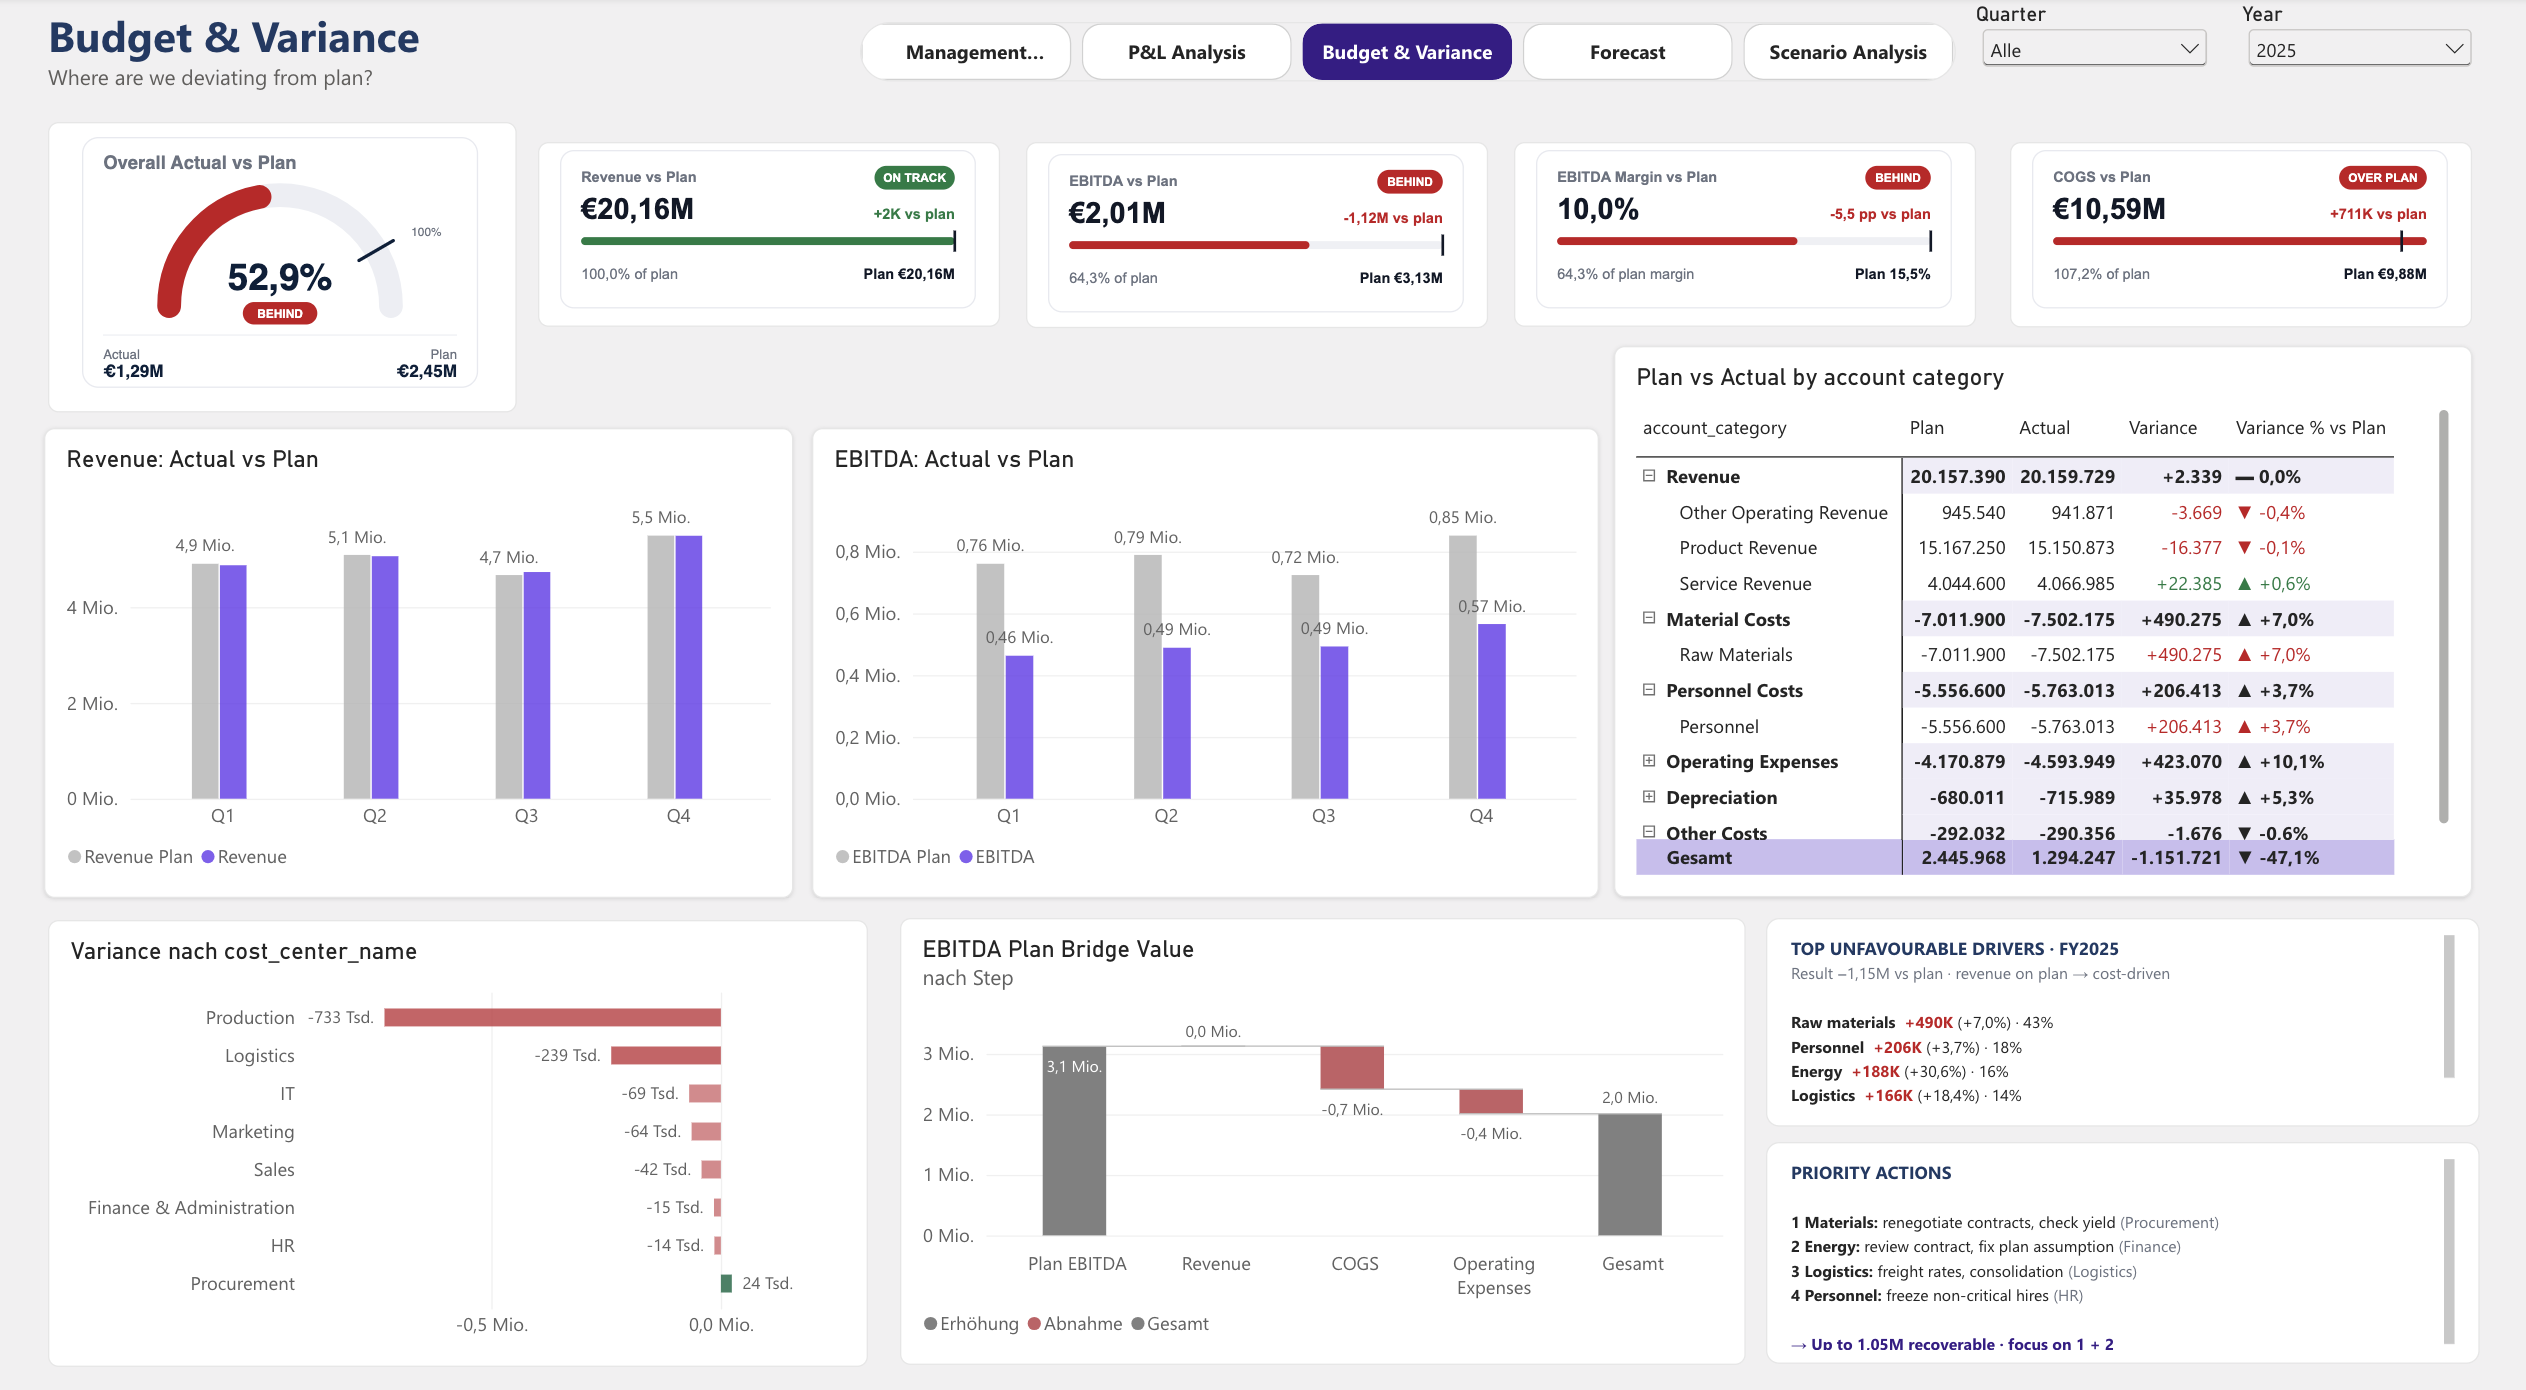

Layout of this report page (visuals, bound fields, positions):
{"tool":"powerbi","page":{"name":"Budget & Variance","canvas":[1920,1080],"ordinal":2},"visuals":[{"type":"textbox","box":[40,8,600,72],"z":0},{"type":"htmlContent443BE3AD55E043BF878BED274D3A6855","title":"Variance","fields":{"content":["_Measures.SVG KPI Card Revenue vs Plan HTML"]},"box":[410,110,350,140],"z":1000},{"type":"pivotTable","title":"Plan vs Actual by account category","fields":{"Rows":["dim_account.account_category","dim_account.account_name"],"Values":["_Measures.Budget","_Measures.Actual","_Measures.Variance (Display)","_Measures.Variance % vs Plan Label"]},"box":[1225,265.4,650,417.3],"z":2000},{"type":"clusteredColumnChart","title":"EBITDA: Actual vs Plan","fields":{"Category":["dim_date.quarter"],"Y":["_Measures.EBITDA Plan","_Measures.EBITDA"]},"box":[617.3,326.9,596.2,355.8],"z":3000},{"type":"htmlContent443BE3AD55E043BF878BED274D3A6855","fields":{"content":["_Measures.SVG Gauge Actual vs Budget HTML"]},"box":[40,95,355,220],"z":4000},{"type":"slicer","title":"Year","fields":{"Values":["dim_date.year"]},"box":[1701.1,5.4,179.2,50.7],"z":5000},{"type":"htmlContent443BE3AD55E043BF878BED274D3A6855","fields":{"content":["_Measures.SVG KPI Card EBITDA vs Plan HTML"]},"box":[780,110,350,140.8],"z":6000},{"type":"barChart","fields":{"Category":["dim_cost_center.cost_center_name"],"Y":["_Measures.Variance"]},"box":[39.8,700.3,621.2,338.5],"z":7000},{"type":"slicer","title":"Quarter","fields":{"Values":["dim_date.quarter"]},"box":[1500.2,5.4,180,56],"z":8000},{"type":"clusteredColumnChart","title":"Revenue: Actual vs Plan","fields":{"Category":["dim_date.quarter"],"Y":["_Measures.Revenue Plan","_Measures.Revenue"]},"box":[36.5,326.9,567.3,355.8],"z":9000},{"type":"textbox","box":[1340.4,698,540.4,158],"z":10000},{"type":"waterfallChart","fields":{"Category":["EBITDA_Plan_Bridge.Step"],"Y":["_Measures.EBITDA Plan Bridge Value"]},"box":[684.1,698.5,640.6,338.4],"z":11000},{"type":"textbox","box":[1340.4,868,540.4,168],"z":12000},{"type":"htmlContent443BE3AD55E043BF878BED274D3A6855","fields":{"content":["_Measures.SVG KPI Card EBITDA Margin vs Plan HTML"]},"box":[1150,110,350,140],"z":13000},{"type":"pageNavigator","box":[655,19,830,45],"z":14000},{"type":"htmlContent443BE3AD55E043BF878BED274D3A6855","fields":{"content":["_Measures.SVG KPI Card COGS vs Plan HTML"]},"box":[1525,110,350,140.4],"z":15000}]}

Visuals, with their boxes in screenshot pixels (x1, y1, x2, y2), scaled from the page's 1920x1080 canvas onto the 2526x1390 screenshot:
textbox: [53,10,842,103]
"Variance" htmlContent443BE3AD55E043BF878BED274D3A6855: [539,142,1000,322]
"Plan vs Actual by account category" pivotTable: [1612,342,2467,879]
"EBITDA: Actual vs Plan" clusteredColumnChart: [812,421,1597,879]
htmlContent443BE3AD55E043BF878BED274D3A6855 - _Measures.SVG Gauge Actual vs Budget HTML: [53,122,520,405]
"Year" slicer: [2238,7,2474,72]
htmlContent443BE3AD55E043BF878BED274D3A6855 - _Measures.SVG KPI Card EBITDA vs Plan HTML: [1026,142,1487,323]
barChart - dim_cost_center.cost_center_name x _Measures.Variance: [52,901,870,1337]
"Quarter" slicer: [1974,7,2211,79]
"Revenue: Actual vs Plan" clusteredColumnChart: [48,421,794,879]
textbox: [1763,898,2474,1102]
waterfallChart - EBITDA_Plan_Bridge.Step x _Measures.EBITDA Plan Bridge Value: [900,899,1743,1335]
textbox: [1763,1117,2474,1333]
htmlContent443BE3AD55E043BF878BED274D3A6855 - _Measures.SVG KPI Card EBITDA Margin vs Plan HTML: [1513,142,1973,322]
pageNavigator: [862,24,1954,82]
htmlContent443BE3AD55E043BF878BED274D3A6855 - _Measures.SVG KPI Card COGS vs Plan HTML: [2006,142,2467,322]
